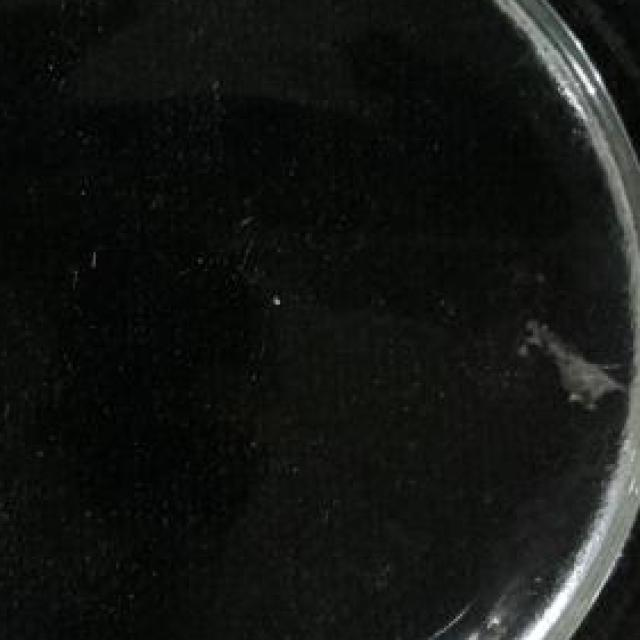Microplastic: (510, 264, 638, 440)
